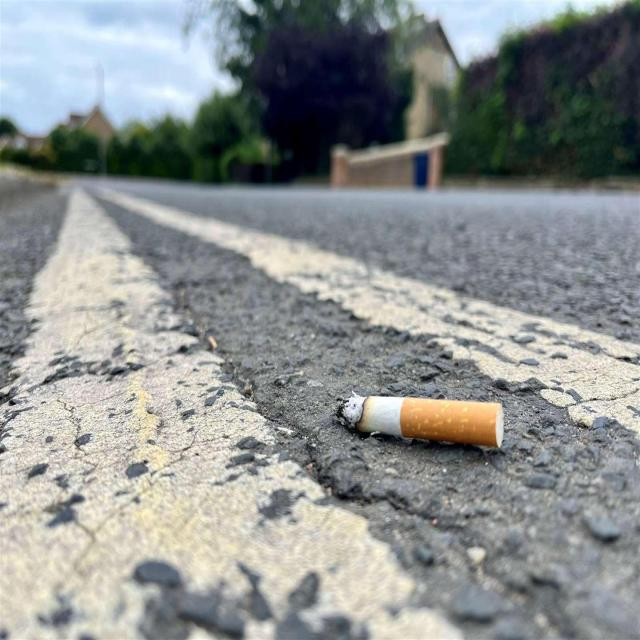cigarette: (338, 394, 504, 452)
